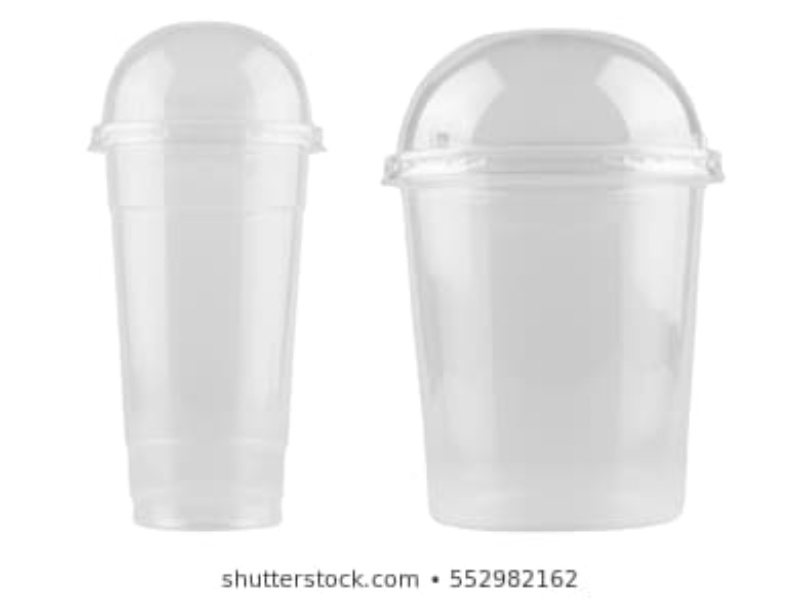plastic-cup: (385, 21, 725, 537), (81, 17, 321, 533)
